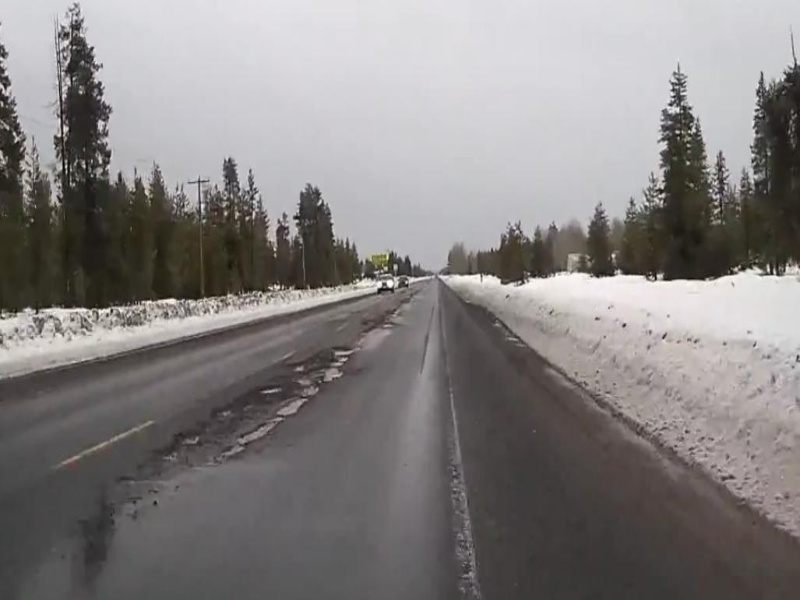pothole: (299, 346, 350, 384), (236, 420, 280, 447), (270, 397, 303, 422), (213, 443, 241, 470)
